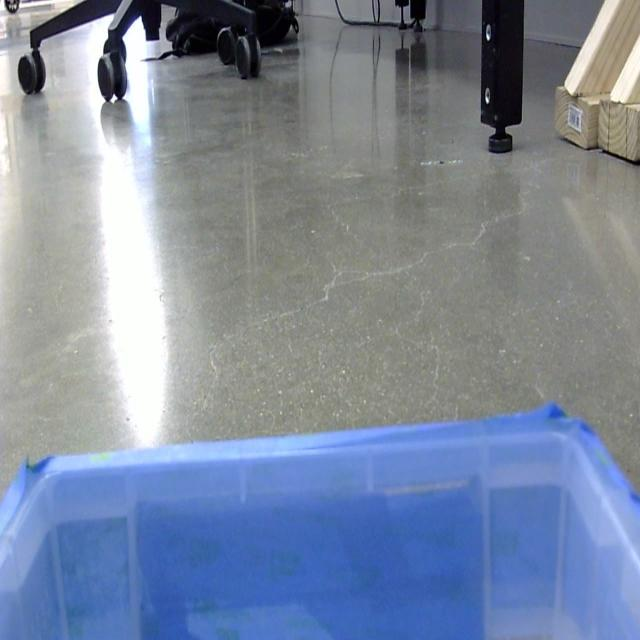bucket: (0, 404, 640, 640)
